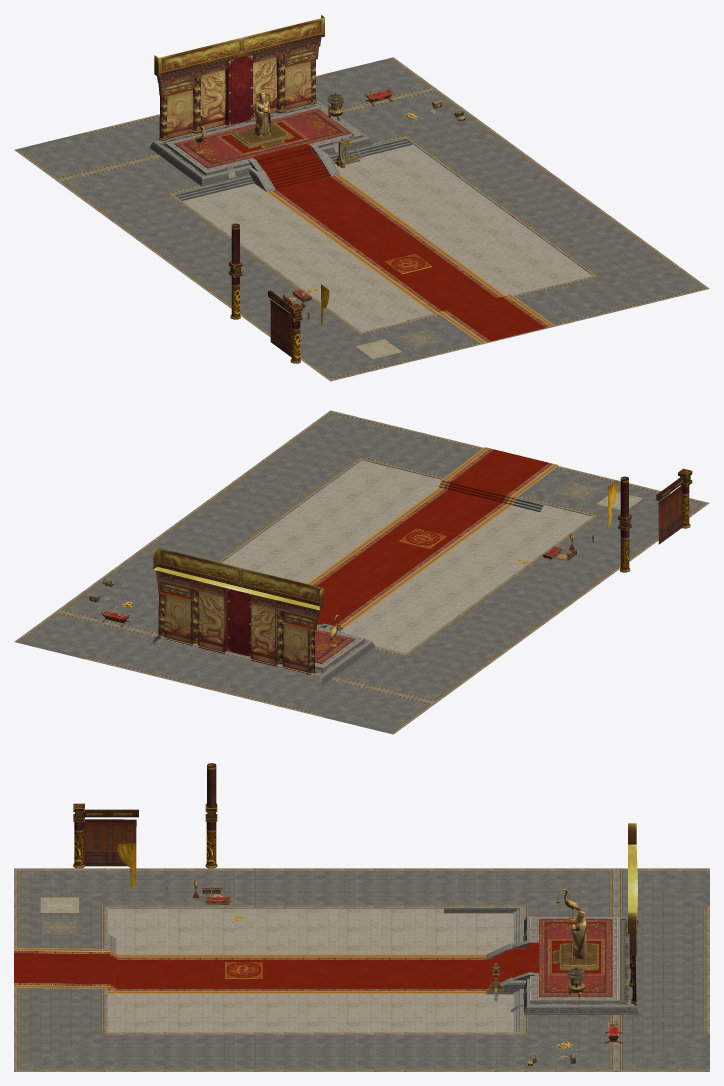
File: S7_3d_qiangbao.FBX
The picture shows the model from 3 angles, top to bottom: view 1: azimuth 30°, elevation 25°; view 2: azimuth 150°, elevation 25°; view 3: azimuth 270°, elevation 25°; orthographic projection. The views are drawn at different scales.
Visible parts, largest first — view 1: S7_3d_qiangbao_dimian01, S7_3d_qiangbao_dimian02, S7_3d_qiangbao_ditan01, S7_3d_qiangbao_pingfeng01, S7_3d_qiangbao_taizi01, S7_3d_qiangbao_ditan02, S7_3d_qiangbao_ditan03, S7_3d_qiangbao_taijie01, S7_3d_qiangbao_men01, S7_3d_qiangbao_zhuzi02, S7_3d_qiangbao_taizi02, S7_3d_qiangbao_ditan04 (+2 smaller); view 2: S7_3d_qiangbao_dimian01, S7_3d_qiangbao_dimian02, S7_3d_qiangbao_pingfeng01, S7_3d_qiangbao_ditan01, S7_3d_qiangbao_ditan02, S7_3d_qiangbao_taizi01, S7_3d_qiangbao_men01, S7_3d_qiangbao_zhuzi02, S7_3d_qiangbao_ditan03, S7_3d_qiangbao_ditan05, S7_3d_qiangbao_tuan02, S7_3d_qiangbao_zhuzi01; view 3: S7_3d_qiangbao_dimian01, S7_3d_qiangbao_dimian02, S7_3d_qiangbao_ditan01, S7_3d_qiangbao_taizi01, S7_3d_qiangbao_ditan02, S7_3d_qiangbao_ditan03, S7_3d_qiangbao_men01, S7_3d_qiangbao_pingfeng01, S7_3d_qiangbao_zhuzi02, S7_3d_qiangbao_taizi02, S7_3d_qiangbao_ditan04, S7_3d_qiangbao_taijie01 (+7 smaller).
Boxes of the visible parts, <box> form: S7_3d_qiangbao_dimian01: <box>14,57,709,381</box>; S7_3d_qiangbao_dimian02: <box>183,144,592,331</box>; S7_3d_qiangbao_ditan01: <box>251,143,505,313</box>; S7_3d_qiangbao_pingfeng01: <box>154,15,324,140</box>; S7_3d_qiangbao_taizi01: <box>150,101,372,191</box>; S7_3d_qiangbao_ditan02: <box>437,294,554,343</box>; S7_3d_qiangbao_ditan03: <box>174,108,351,168</box>; S7_3d_qiangbao_taijie01: <box>173,138,412,200</box>; S7_3d_qiangbao_men01: <box>270,299,291,357</box>; S7_3d_qiangbao_zhuzi02: <box>228,223,242,319</box>; S7_3d_qiangbao_taizi02: <box>230,123,294,148</box>; S7_3d_qiangbao_ditan04: <box>216,120,308,155</box>; S7_3d_qiangbao_dimian01: <box>14,410,709,734</box>; S7_3d_qiangbao_dimian02: <box>221,460,592,653</box>; S7_3d_qiangbao_pingfeng01: <box>153,547,323,674</box>; S7_3d_qiangbao_ditan01: <box>307,487,511,628</box>; S7_3d_qiangbao_ditan02: <box>438,447,558,505</box>; S7_3d_qiangbao_taizi01: <box>153,623,374,684</box>; S7_3d_qiangbao_men01: <box>658,485,682,544</box>; S7_3d_qiangbao_zhuzi02: <box>618,476,632,572</box>; S7_3d_qiangbao_ditan03: <box>315,629,354,663</box>; S7_3d_qiangbao_ditan05: <box>399,528,446,548</box>; S7_3d_qiangbao_tuan02: <box>555,481,601,501</box>; S7_3d_qiangbao_zhuzi01: <box>678,468,692,528</box>; S7_3d_qiangbao_dimian01: <box>14,868,709,1071</box>; S7_3d_qiangbao_dimian02: <box>107,908,513,1032</box>; S7_3d_qiangbao_ditan01: <box>107,942,538,993</box>; S7_3d_qiangbao_taizi01: <box>486,916,638,1014</box>; S7_3d_qiangbao_ditan02: <box>14,948,116,992</box>; S7_3d_qiangbao_ditan03: <box>539,919,612,996</box>; S7_3d_qiangbao_men01: <box>83,819,136,866</box>; S7_3d_qiangbao_pingfeng01: <box>628,823,637,1005</box>; S7_3d_qiangbao_zhuzi02: <box>205,763,217,868</box>; S7_3d_qiangbao_taizi02: <box>552,943,598,970</box>; S7_3d_qiangbao_ditan04: <box>548,939,604,975</box>; S7_3d_qiangbao_taijie01: <box>513,908,522,1032</box>.
Bounding box in the file's own units: 59.53 × 14.52 × 83.84.
2 materials, 2 textured.
